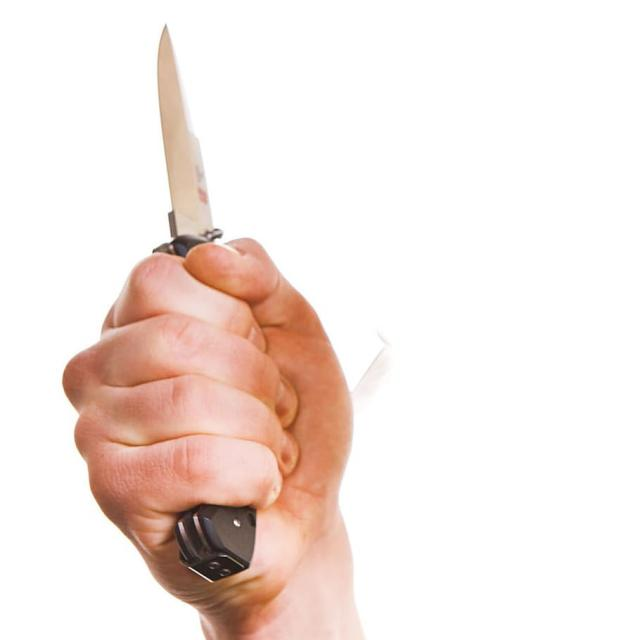knife: (156, 21, 258, 582)
